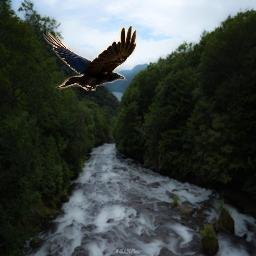Crow: (43, 25, 138, 91)
